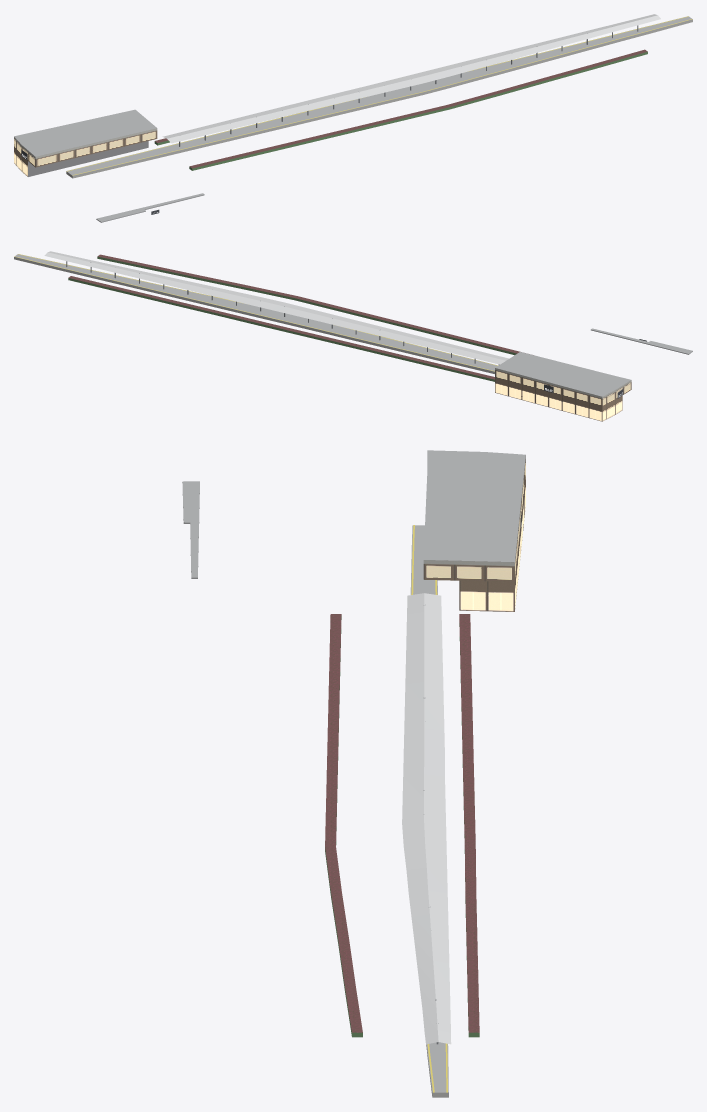
Rendered from komagome_station.glb.
The picture shows the model from 3 angles, top to bottom: view 1: azimuth 30°, elevation 25°; view 2: azimuth 150°, elevation 25°; view 3: azimuth 270°, elevation 25°; orthographic projection. The views are drawn at different scales.
Parts seen in each view (by area): view 1: KG_Station; view 2: KG_Station; view 3: KG_Station.
Boxes of the visible parts, <box> form: KG_Station: <box>14,14,692,222</box>; KG_Station: <box>14,251,692,421</box>; KG_Station: <box>182,450,525,1097</box>.
Bounding box in the file's own units: 257 × 10 × 62.65.
11 materials, 2 textured.
